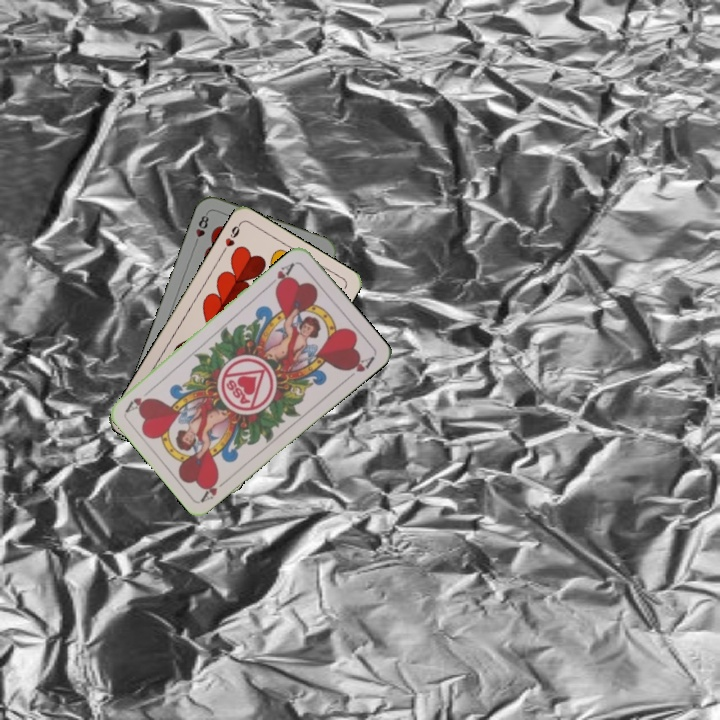H8: (190, 209, 211, 248)
H9: (218, 220, 243, 256)
HA: (264, 258, 297, 292), (197, 473, 232, 504)
